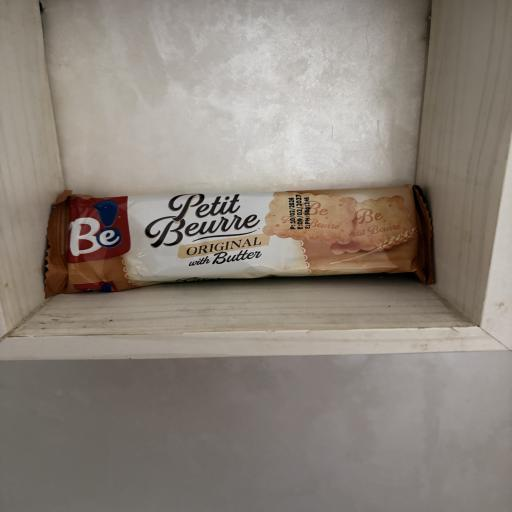petit_beurre: (23, 166, 459, 309)
